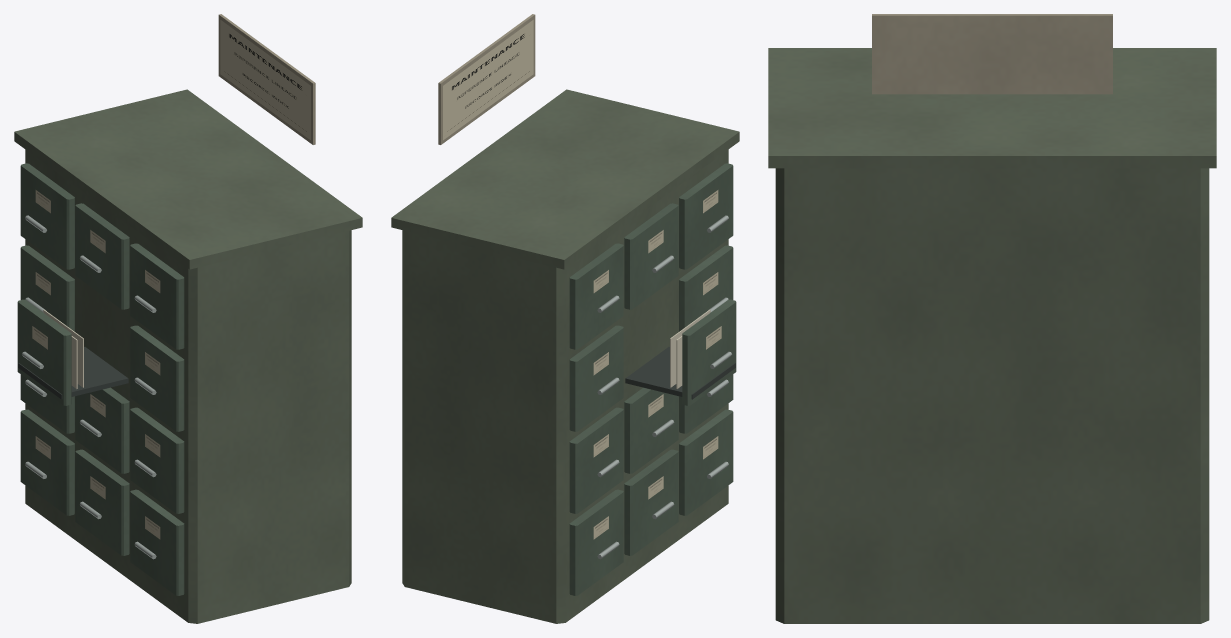
Rendered from SM_ArchiveProps_CardIndex_LOD2.glb.
The picture shows the model from 3 angles, left to right: view 1: azimuth 30°, elevation 25°; view 2: azimuth 150°, elevation 25°; view 3: azimuth 270°, elevation 25°; orthographic projection. The views are drawn at different scales.
Parts seen in each view (by area): view 1: SM_ArchiveProps_CardIndex_LOD2; view 2: SM_ArchiveProps_CardIndex_LOD2; view 3: SM_ArchiveProps_CardIndex_LOD2.
Part boxes in pixels (bbox=[...]): SM_ArchiveProps_CardIndex_LOD2: bbox=[14, 14, 362, 623]; SM_ArchiveProps_CardIndex_LOD2: bbox=[391, 14, 739, 623]; SM_ArchiveProps_CardIndex_LOD2: bbox=[768, 14, 1216, 623].
Size of the model in its own units: 0.748 by 1.39 by 0.93.
Materials: 7 (4 with a texture image).
